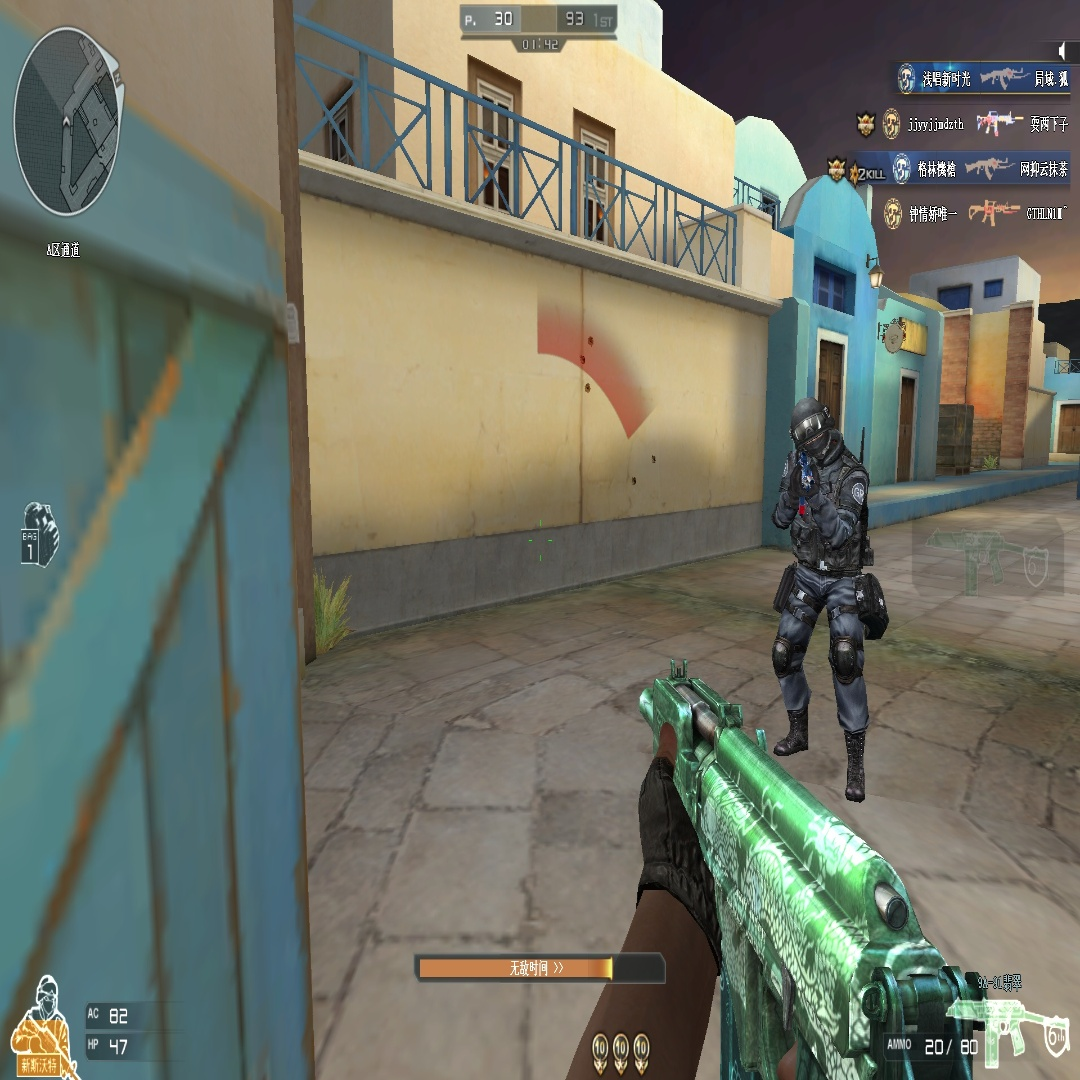head: (790, 399, 832, 460)
p: (770, 394, 873, 804)
